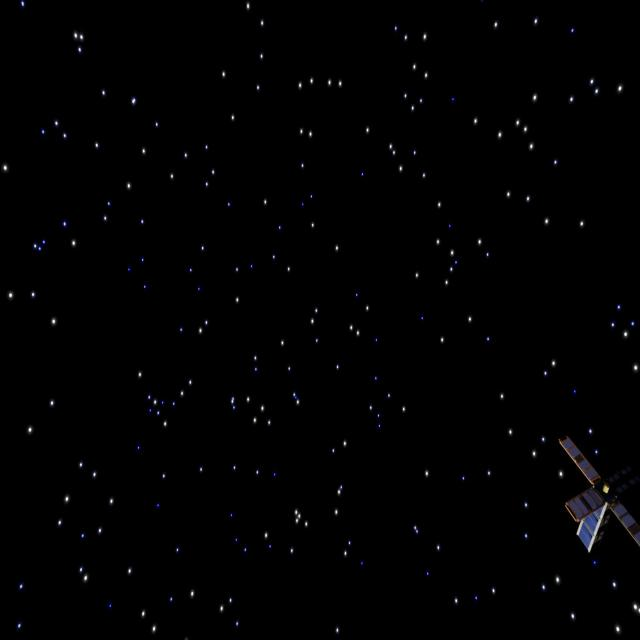satellite: (550, 436, 640, 573)
